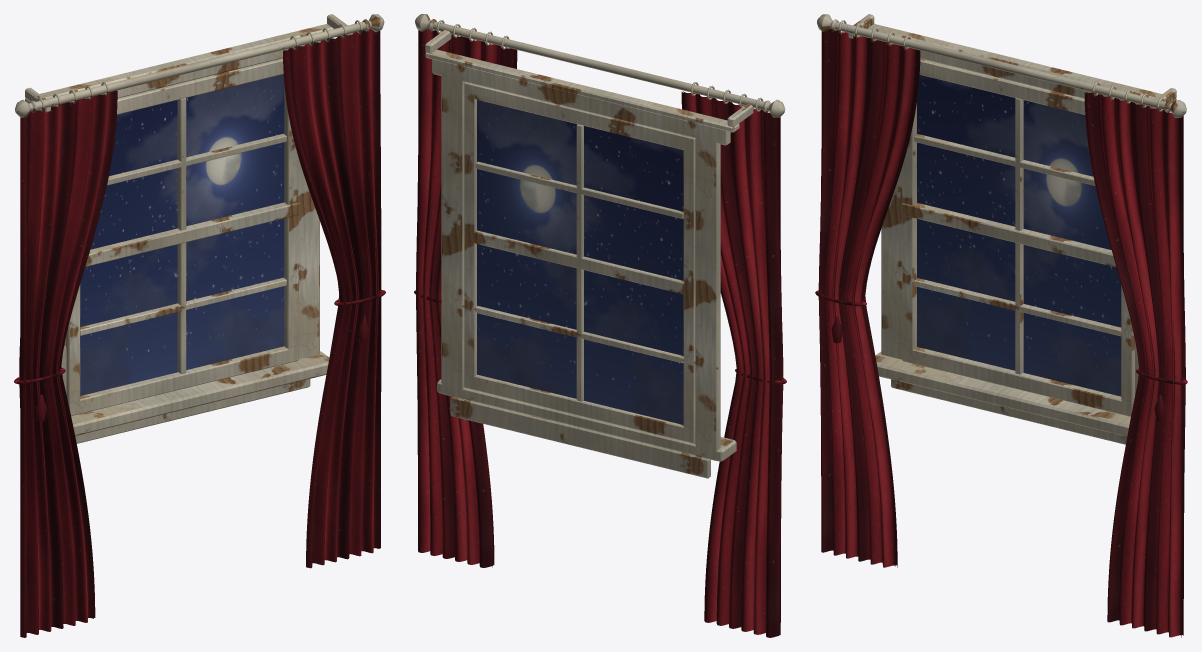
File: bed_window.obj
3 renders of one model, left to right at view 1: azimuth 30°, elevation 25°; view 2: azimuth 150°, elevation 25°; view 3: azimuth 330°, elevation 25°, orthographic.
Visible parts, largest first — view 1: bed_window_curtain, bed_window_night_sky_glow, bed_window_wood_painted_white; view 2: bed_window_wood_painted_white, bed_window_curtain, bed_window_night_sky_glow; view 3: bed_window_curtain, bed_window_night_sky_glow, bed_window_wood_painted_white.
Part boxes in pixels (x1,y1,x2,y2): bed_window_curtain: (14, 28, 385, 637); bed_window_night_sky_glow: (80, 74, 284, 395); bed_window_wood_painted_white: (15, 14, 384, 443); bed_window_wood_painted_white: (415, 14, 785, 478); bed_window_curtain: (414, 28, 786, 637); bed_window_night_sky_glow: (477, 100, 683, 424); bed_window_curtain: (815, 29, 1187, 637); bed_window_night_sky_glow: (917, 75, 1121, 396); bed_window_wood_painted_white: (817, 14, 1186, 444).
Bounding box in the file's own units: 1.6 × 2.2 × 0.2.
3 materials, 3 textured.
